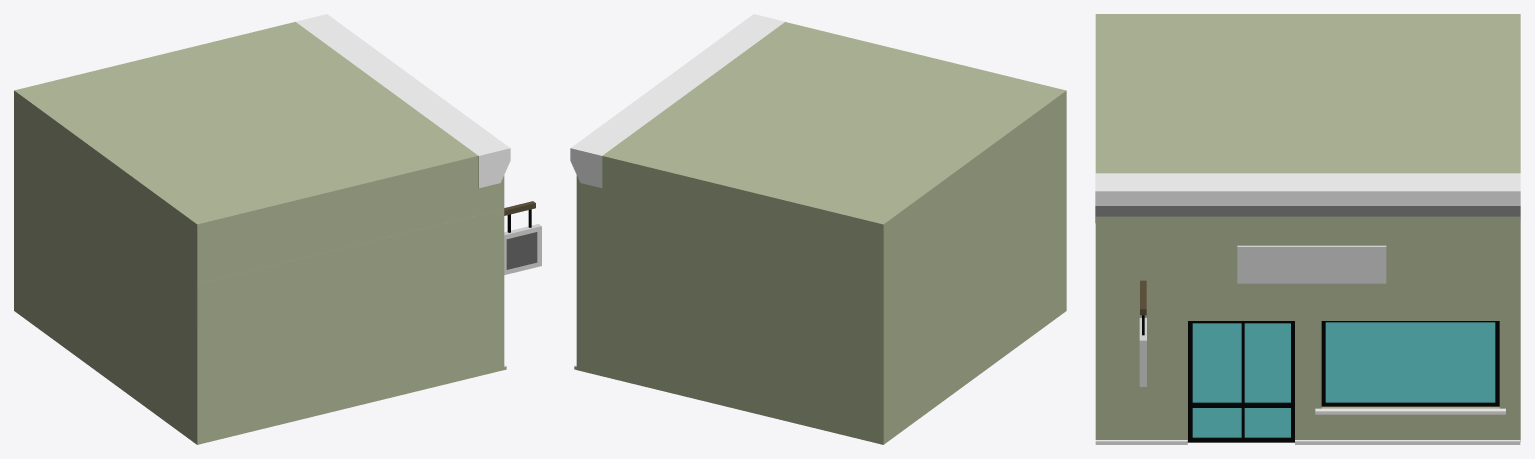
The model's file is Small Shop2.fbx.
3 renders of one model, left to right at view 1: azimuth 30°, elevation 25°; view 2: azimuth 150°, elevation 25°; view 3: azimuth 270°, elevation 25°, orthographic. The views are drawn at different scales.
Parts seen in each view (by area): view 1: Cube, Cube.023; view 2: Cube; view 3: Cube, Cube.001, Cube.023.
Boxes of the visible parts, x1,y1,x2,y2 form: Cube: (14, 14, 510, 444); Cube.023: (504, 201, 541, 274); Cube: (570, 14, 1066, 444); Cube: (1095, 14, 1520, 444); Cube.001: (1237, 245, 1386, 283); Cube.023: (1139, 280, 1146, 386).
Size of the model in its own units: 2418 by 1402 by 2114.
